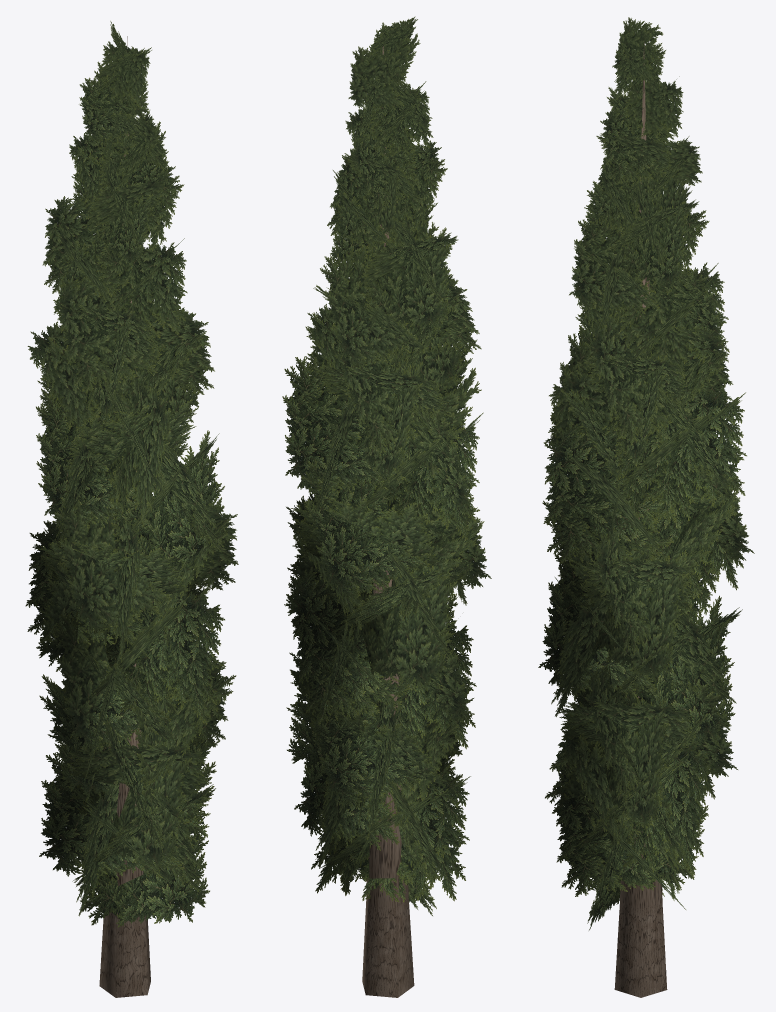
The model's file is cypress.glb.
3 views of the same model, side by side, from view 1: azimuth 30°, elevation 25°; view 2: azimuth 150°, elevation 25°; view 3: azimuth 270°, elevation 25° (orthographic).
Visible parts, largest first — view 1: cypress_foliage, cypress_wood; view 2: cypress_foliage, cypress_wood; view 3: cypress_foliage, cypress_wood.
Boxes of the visible parts, x1,y1,x2,y2 form: cypress_foliage: (25, 21, 238, 927); cypress_wood: (99, 36, 150, 997); cypress_foliage: (282, 16, 491, 915); cypress_wood: (362, 33, 414, 997); cypress_foliage: (538, 17, 754, 930); cypress_wood: (614, 42, 667, 997).
Bounding box in the file's own units: 2.08 × 9.1 × 2.01.
2 materials, 2 textured.
